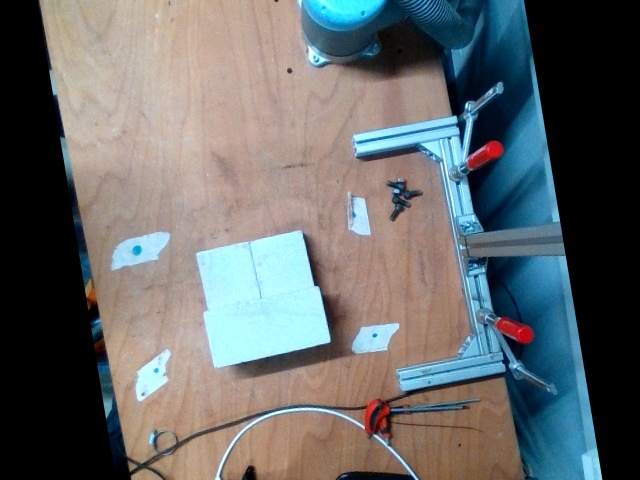brick: (202, 286, 331, 369)
